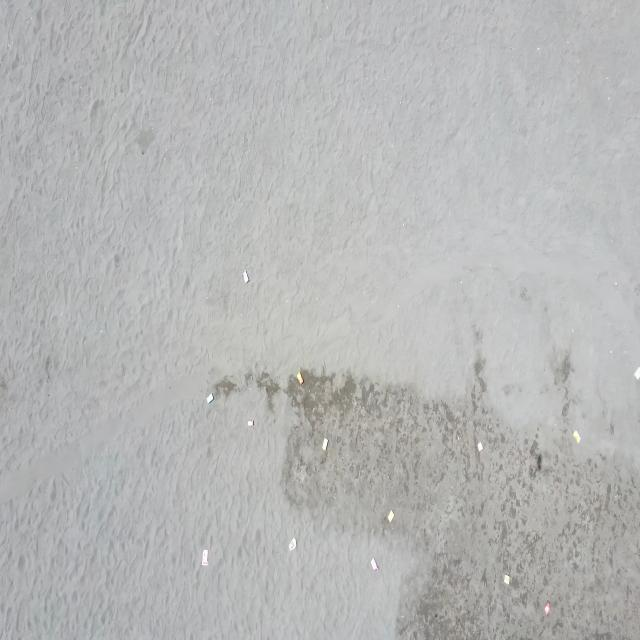Garbage: (200, 548, 207, 566), (296, 369, 303, 384), (572, 430, 580, 443), (288, 537, 296, 550), (544, 601, 550, 615), (369, 557, 376, 569), (633, 367, 639, 380), (387, 510, 393, 522), (536, 453, 540, 470), (504, 573, 510, 584), (322, 436, 327, 449), (207, 392, 212, 403), (476, 442, 482, 451), (243, 270, 247, 283), (247, 420, 252, 426)
